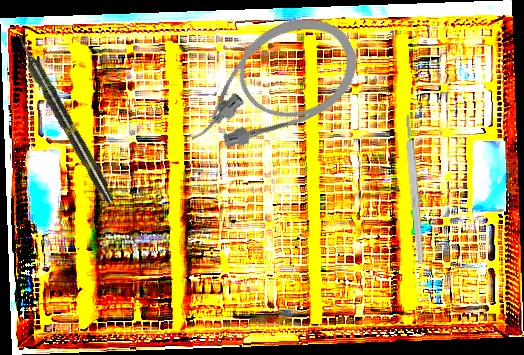Cannula: (164, 0, 372, 169)
Handpiece: (12, 32, 118, 207)
Scalpel Handle: (403, 114, 426, 265)
